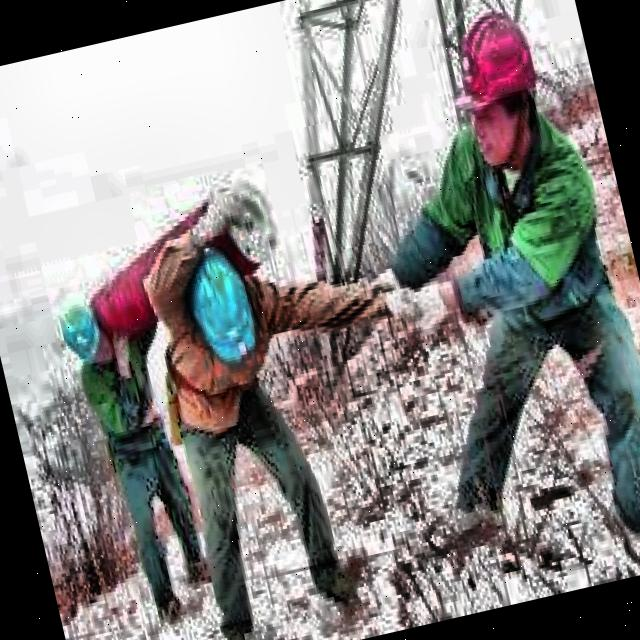helmet: (431, 0, 563, 183), (168, 238, 258, 368), (50, 290, 111, 375)
